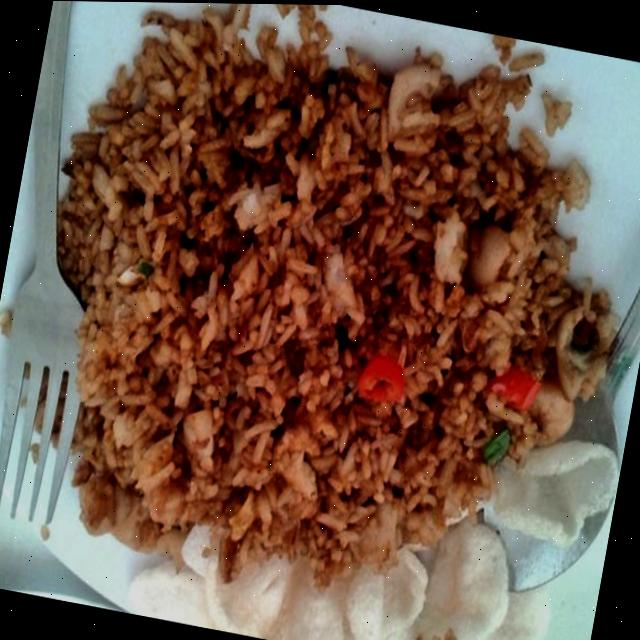米饭主食: (0, 0, 640, 637)
